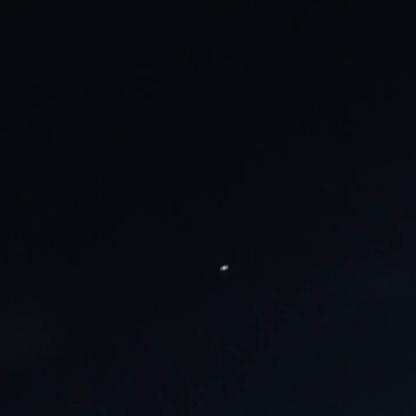ball: (216, 260, 232, 274)
